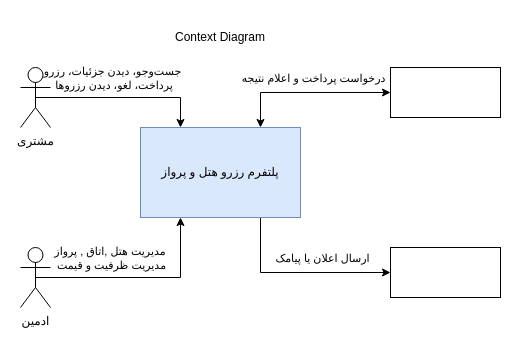
This 518x345 diagram has some shape labels left out. The shapes that lost their labels are listed below. From the top down, each one's centre as x and y in pixels, then its label:
At (x=445, y=92): "درگاه پرداخت (Mock)".
At (x=445, y=272): "سرویس ایمیل (Mock)".
